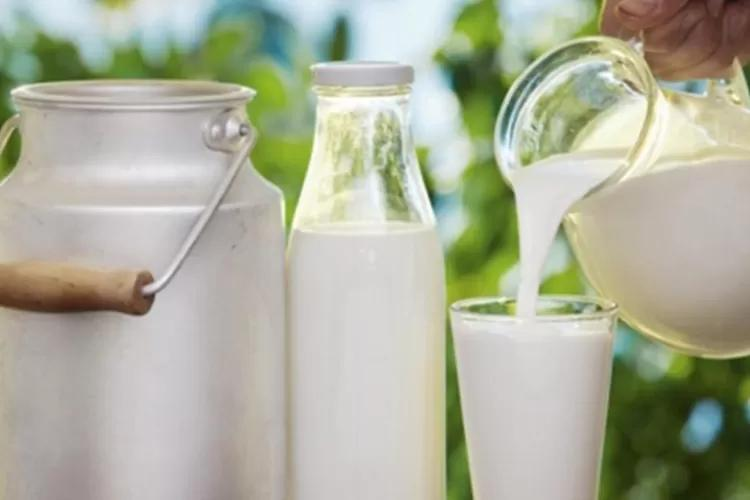produk_susu: (319, 143, 420, 495), (584, 107, 745, 294), (486, 303, 590, 495)
